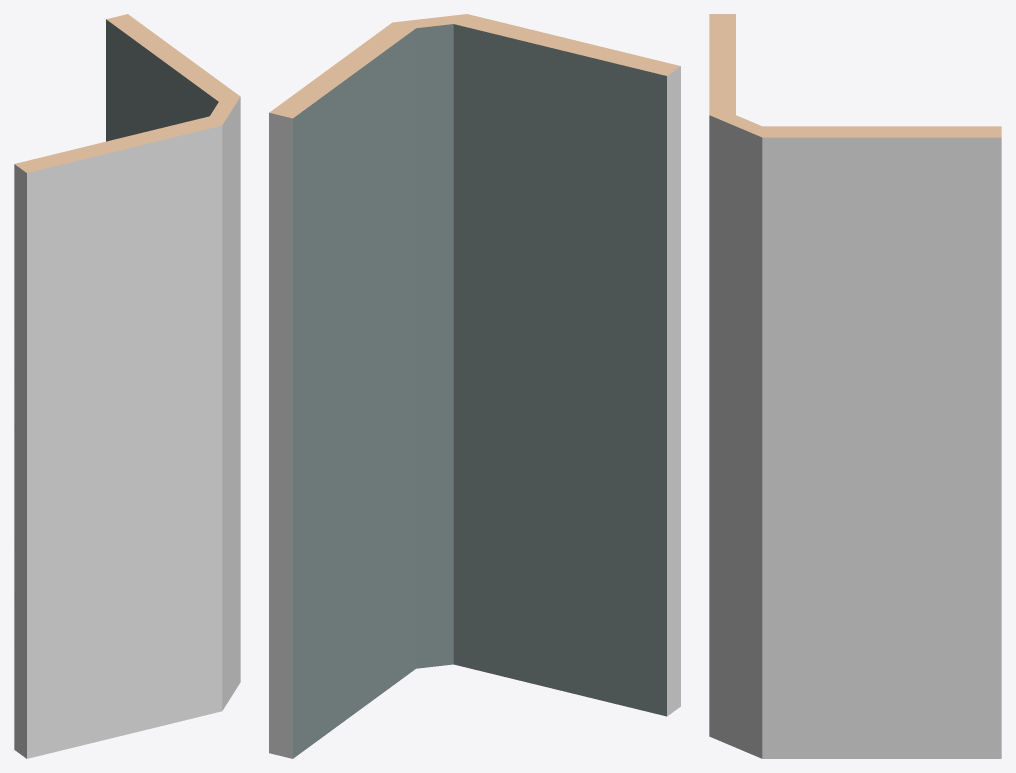
The model's file is wallCorner.glb.
3 renders of one model, left to right at view 1: azimuth 30°, elevation 25°; view 2: azimuth 150°, elevation 25°; view 3: azimuth 270°, elevation 25°, orthographic. The views are drawn at different scales.
Parts seen in each view (by area): view 1: wallCorner(Clone); view 2: wallCorner(Clone); view 3: wallCorner(Clone).
Boxes of the visible parts, x1,y1,x2,y2 form: wallCorner(Clone): (14, 14, 240, 758); wallCorner(Clone): (269, 14, 680, 758); wallCorner(Clone): (709, 14, 1001, 758).
Bounding box in the file's own units: 0.55 × 1.29 × 0.55.
